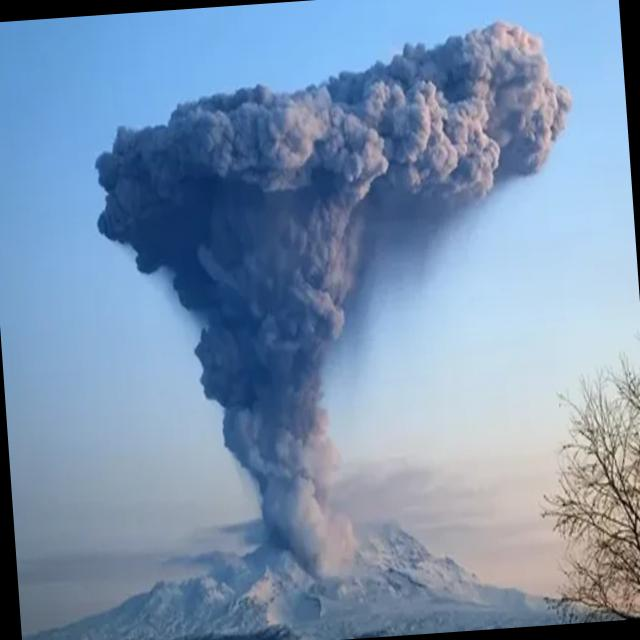Smoke: (86, 16, 598, 588)
